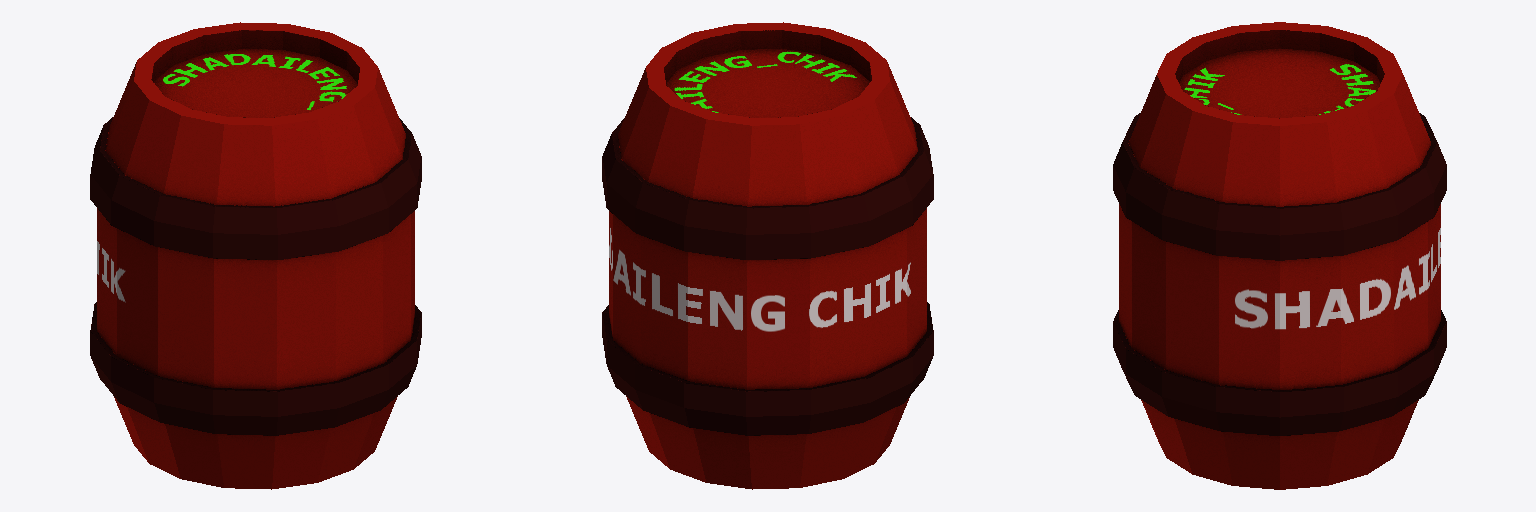
The picture shows the model from 3 angles: view 1: azimuth 30°, elevation 25°; view 2: azimuth 150°, elevation 25°; view 3: azimuth 270°, elevation 25°; orthographic projection.
Parts seen in each view (by area): view 1: 柱体; view 2: 柱体; view 3: 柱体.
Part boxes in pixels (x1,y1,x2,y2): 柱体: (90,22,421,489); 柱体: (602,22,933,489); 柱体: (1113,22,1446,489).
Size of the model in its own units: 2.08 by 2.5 by 2.08.
2 materials, 1 textured.